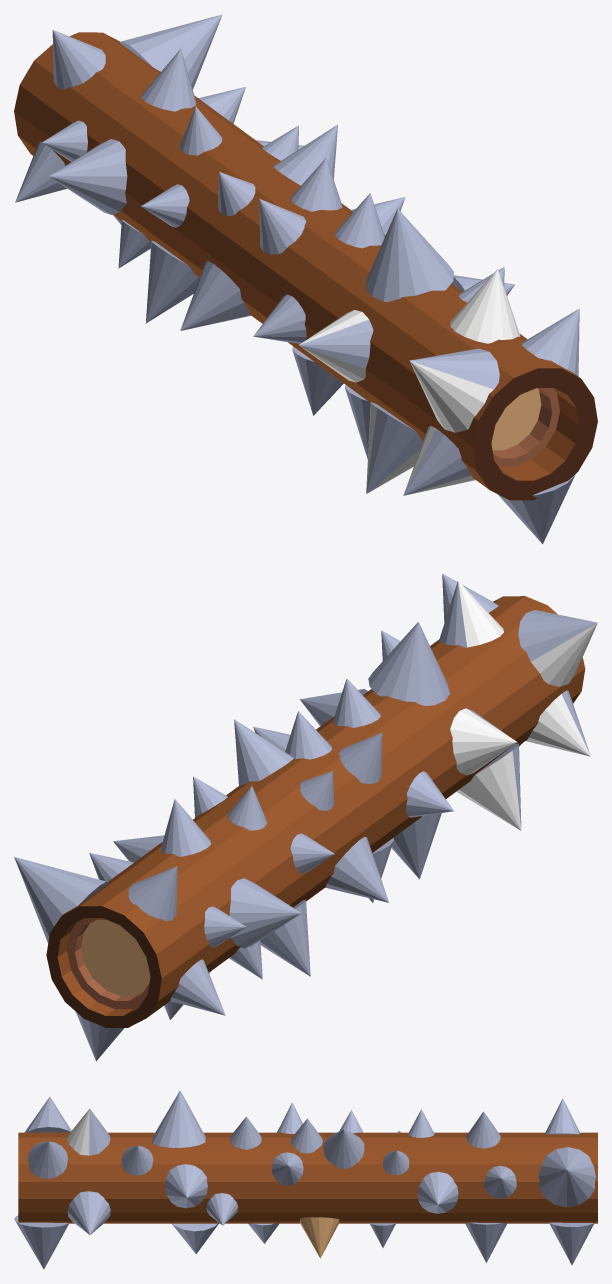
Rendered from log.glb.
3 views of the same model, one above another, from view 1: azimuth 30°, elevation 25°; view 2: azimuth 150°, elevation 25°; view 3: azimuth 270°, elevation 25° (orthographic). The views are drawn at different scales.
Parts seen in each view (by area): view 1: Cone, Cylinder; view 2: Cylinder, Cone; view 3: Cylinder, Cone.
Boxes of the visible parts, <box> form: Cone: <box>15,14,579,544</box>; Cylinder: <box>14,32,597,500</box>; Cylinder: <box>46,596,585,1027</box>; Cone: <box>14,573,597,1061</box>; Cylinder: <box>18,1132,597,1223</box>; Cone: <box>14,1090,595,1269</box>.
Bounding box in the file's own units: 5.2 × 5.47 × 17.16.
